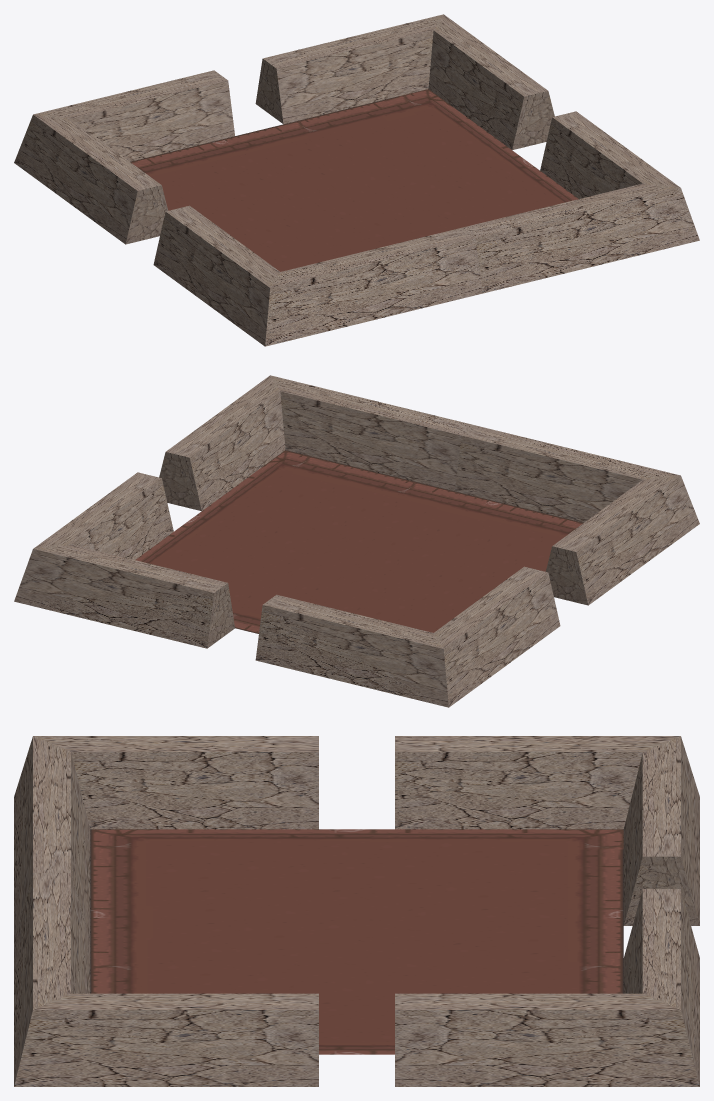
File: sala_14.obj
The picture shows the model from 3 angles, top to bottom: view 1: azimuth 30°, elevation 25°; view 2: azimuth 150°, elevation 25°; view 3: azimuth 270°, elevation 25°; orthographic projection. The views are drawn at different scales.
Parts seen in each view (by area): view 1: Ground_Plane, Wall.003_Cube.010, Wall.001_Cube.012, Wall.004_Cube.015, Wall.007_Cube.017, Wall.006_Cube.016, Wall.005_Cube.002, Wall.000_Cube.011, Wall.002_Cube.014; view 2: Ground_Plane, Wall.004_Cube.015, Wall.006_Cube.016, Wall.003_Cube.010, Wall.001_Cube.012, Wall.000_Cube.011, Wall.002_Cube.014, Wall.007_Cube.017, Wall.005_Cube.002; view 3: Ground_Plane, Wall.005_Cube.002, Wall.002_Cube.014, Wall.000_Cube.011, Wall.007_Cube.017, Wall.006_Cube.016, Wall.001_Cube.012, Wall.003_Cube.010, Wall.004_Cube.015.
Part boxes in pixels (x1,y1,x2,y2): Ground_Plane: (130, 89, 578, 271); Wall.003_Cube.010: (462, 183, 699, 293); Wall.001_Cube.012: (265, 228, 482, 346); Wall.004_Cube.015: (255, 14, 443, 124); Wall.007_Cube.017: (14, 114, 168, 244); Wall.006_Cube.016: (33, 70, 234, 161); Wall.005_Cube.002: (428, 14, 554, 150); Wall.000_Cube.011: (153, 205, 279, 346); Wall.002_Cube.014: (540, 111, 680, 198); Ground_Plane: (135, 450, 583, 633); Wall.004_Cube.015: (14, 544, 234, 648); Wall.006_Cube.016: (255, 594, 448, 707); Wall.003_Cube.010: (270, 375, 474, 490); Wall.001_Cube.012: (454, 425, 680, 522); Wall.000_Cube.011: (545, 475, 699, 605); Wall.002_Cube.014: (159, 375, 285, 511); Wall.007_Cube.017: (434, 566, 560, 707); Wall.005_Cube.002: (33, 472, 173, 559); Ground_Plane: (90, 829, 623, 1054); Wall.005_Cube.002: (395, 993, 699, 1086); Wall.002_Cube.014: (14, 993, 318, 1086); Wall.000_Cube.011: (33, 736, 318, 829); Wall.007_Cube.017: (395, 736, 680, 829); Wall.006_Cube.016: (623, 736, 699, 925); Wall.001_Cube.012: (14, 736, 90, 941); Wall.003_Cube.010: (14, 873, 90, 1085); Wall.004_Cube.015: (623, 889, 699, 1085).
Size of the model in its own units: 18 by 2 by 18.
